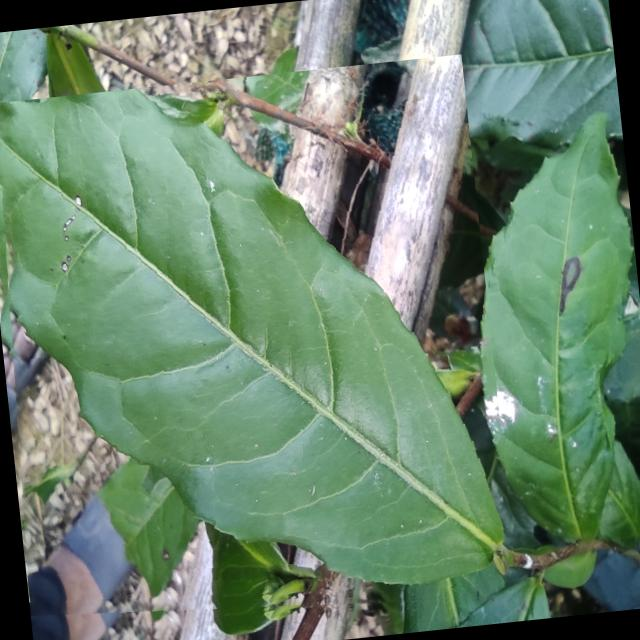Category D(7+ days, Not for Tea): (0, 54, 517, 640)
